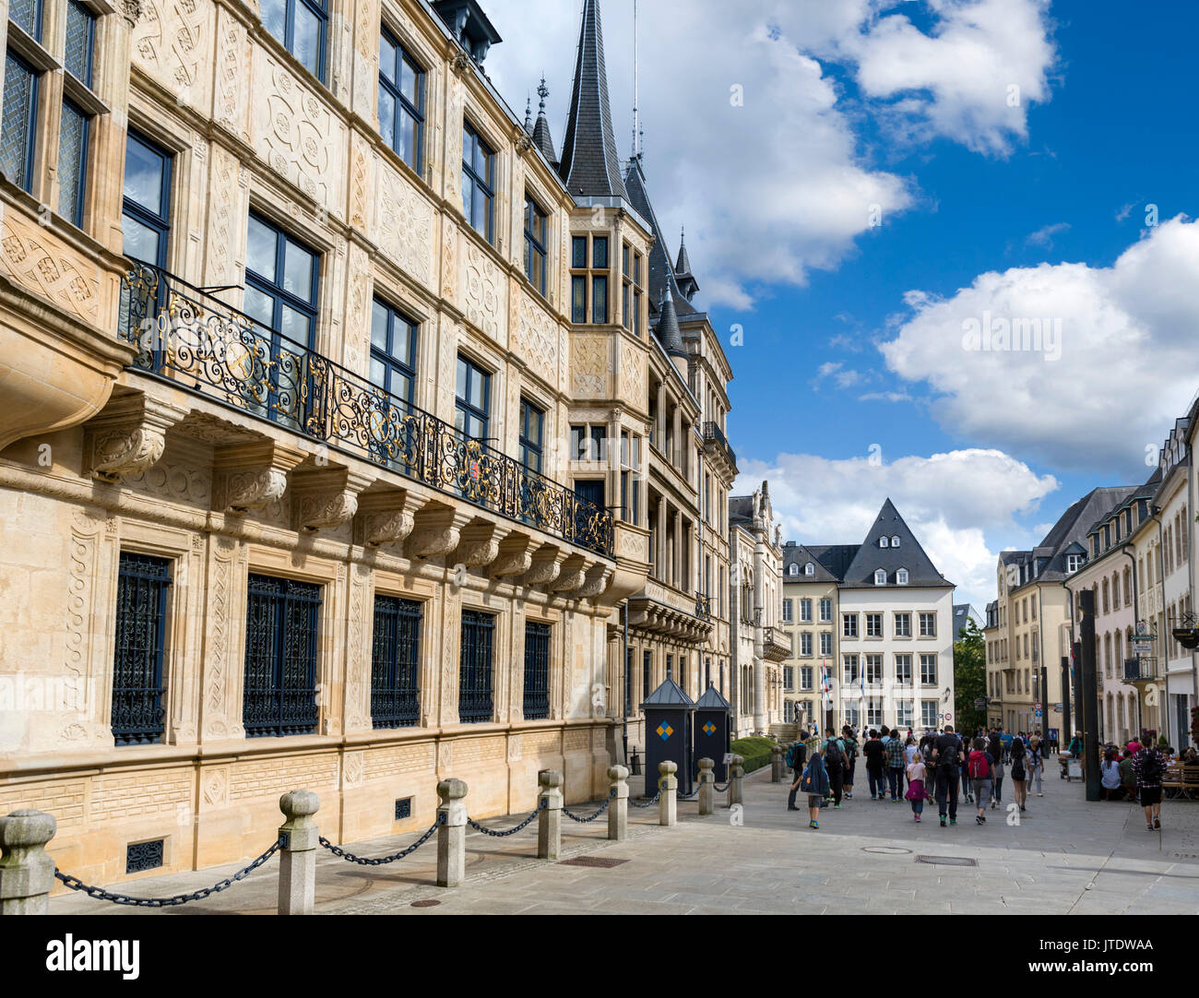Videoprojecteur: (432, 715, 786, 844)
